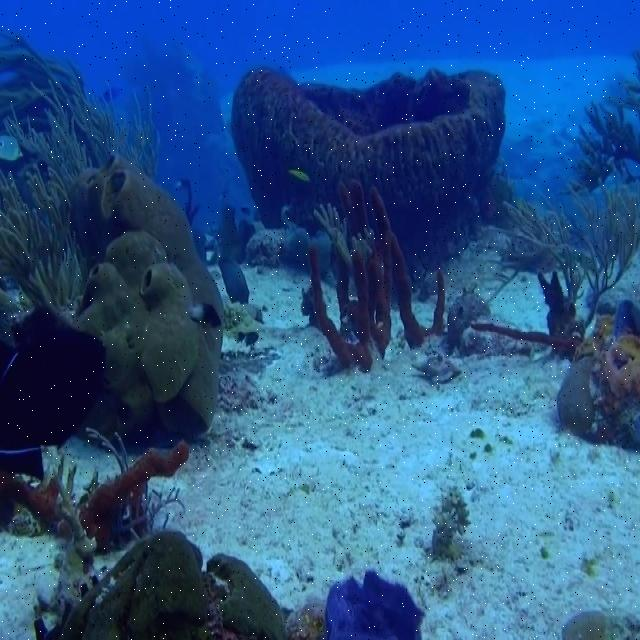aquatic plants: (2, 32, 157, 318), (308, 187, 448, 372), (502, 193, 633, 341)
reefs: (234, 66, 512, 293), (67, 158, 223, 443), (54, 533, 422, 639)
sea-floor: (559, 301, 640, 455)
